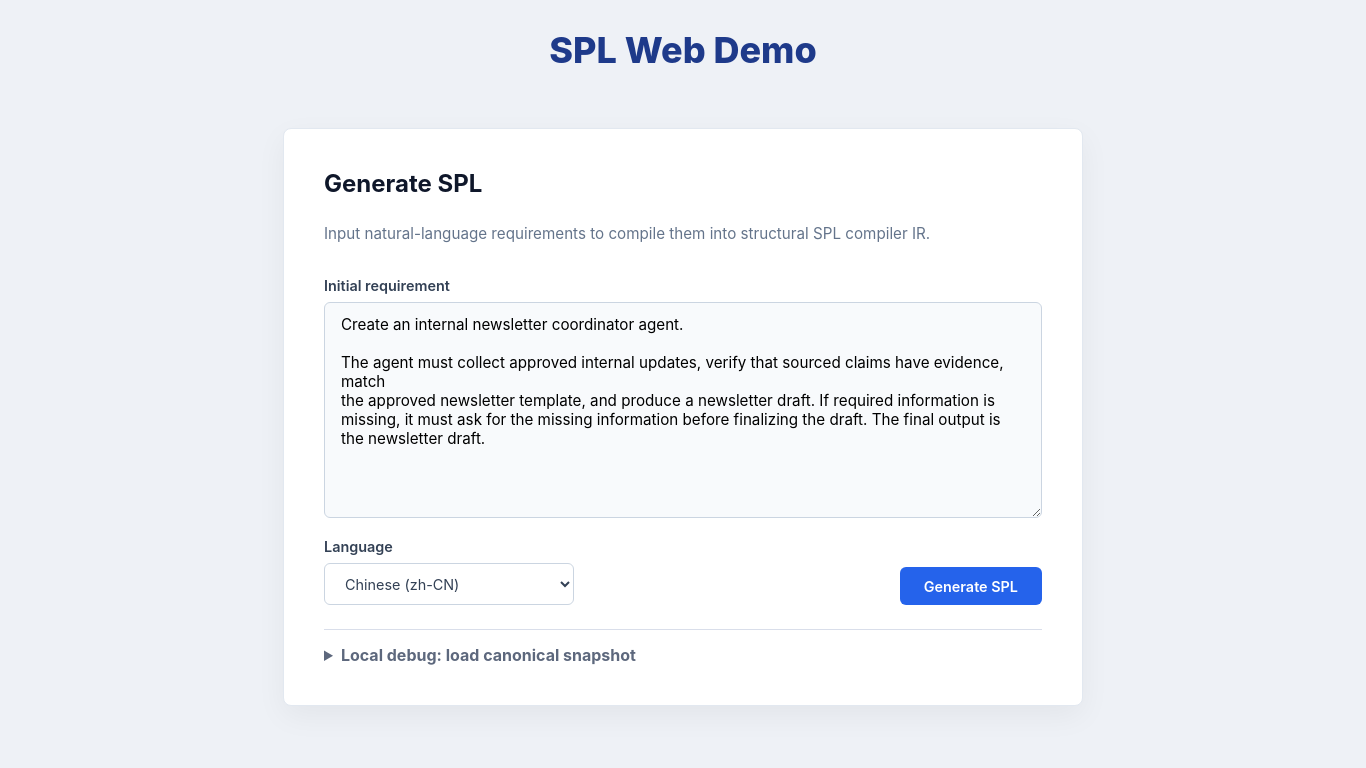
SPL inspection workbench › compiles an initial requirement and hydrates the public run read models
The image size is (1366, 768).
What coordinates should you click on to do the following:
click the button "Generate SPL"
I would click on:
 (971, 586)
Its box is [900,567,1042,605].
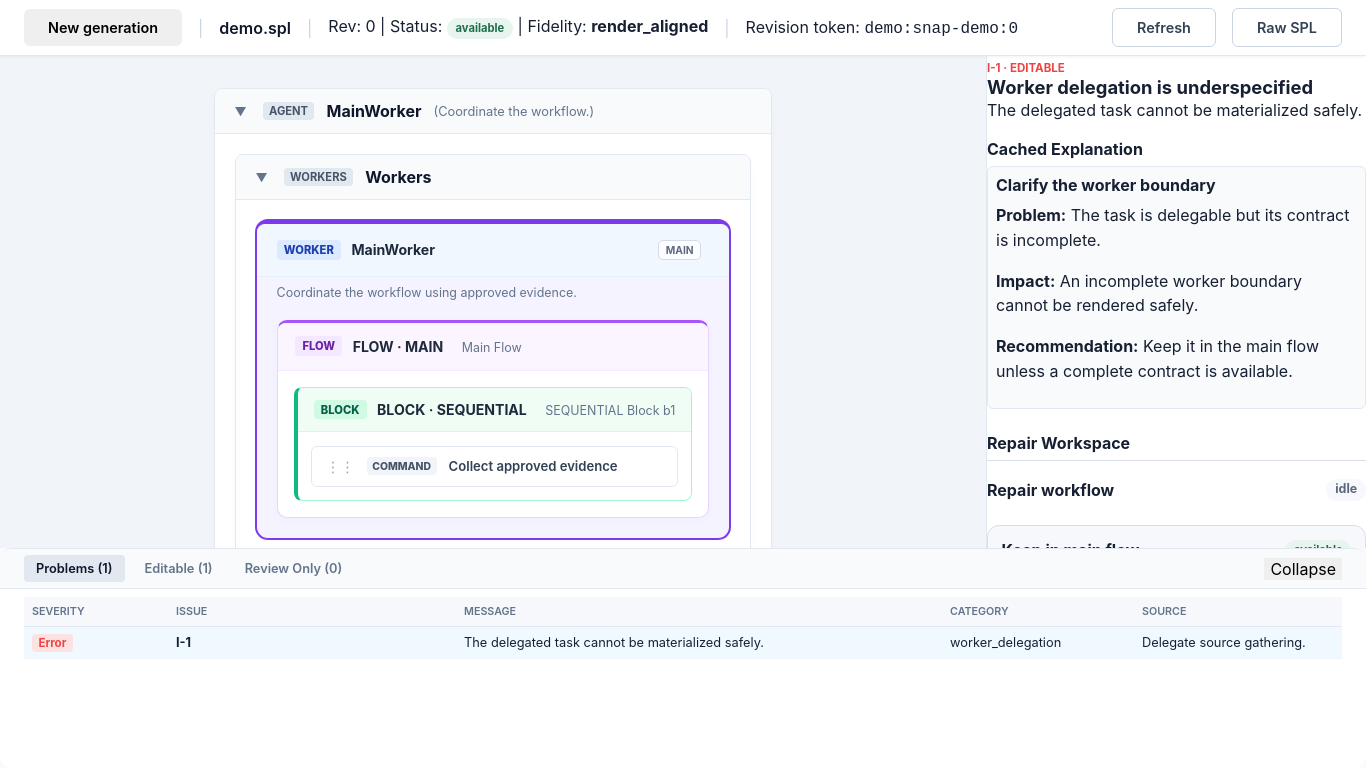
Expected: the text "demo:snap-demo:0" is shown, [864,20,1018,38]
